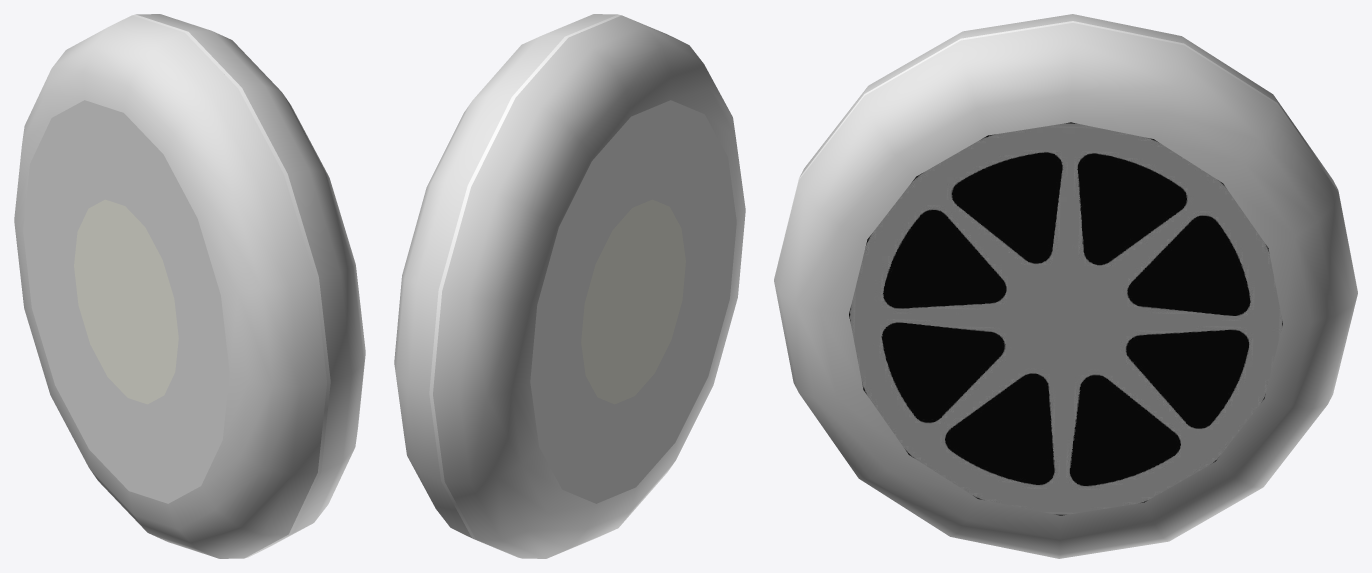
The model's file is frontWheelLeft.fbx.
3 views of the same model, side by side, from view 1: azimuth 30°, elevation 25°; view 2: azimuth 150°, elevation 25°; view 3: azimuth 270°, elevation 25° (orthographic). The views are drawn at different scales.
Visible parts, largest first — view 1: frontwheel; view 2: frontwheel; view 3: frontwheel.
Boxes of the visible parts, x1,y1,x2,y2 form: frontwheel: [14, 14, 365, 558]; frontwheel: [394, 14, 745, 558]; frontwheel: [774, 14, 1357, 558].
Size of the model in its own units: 17.34 by 65.63 by 65.63.
